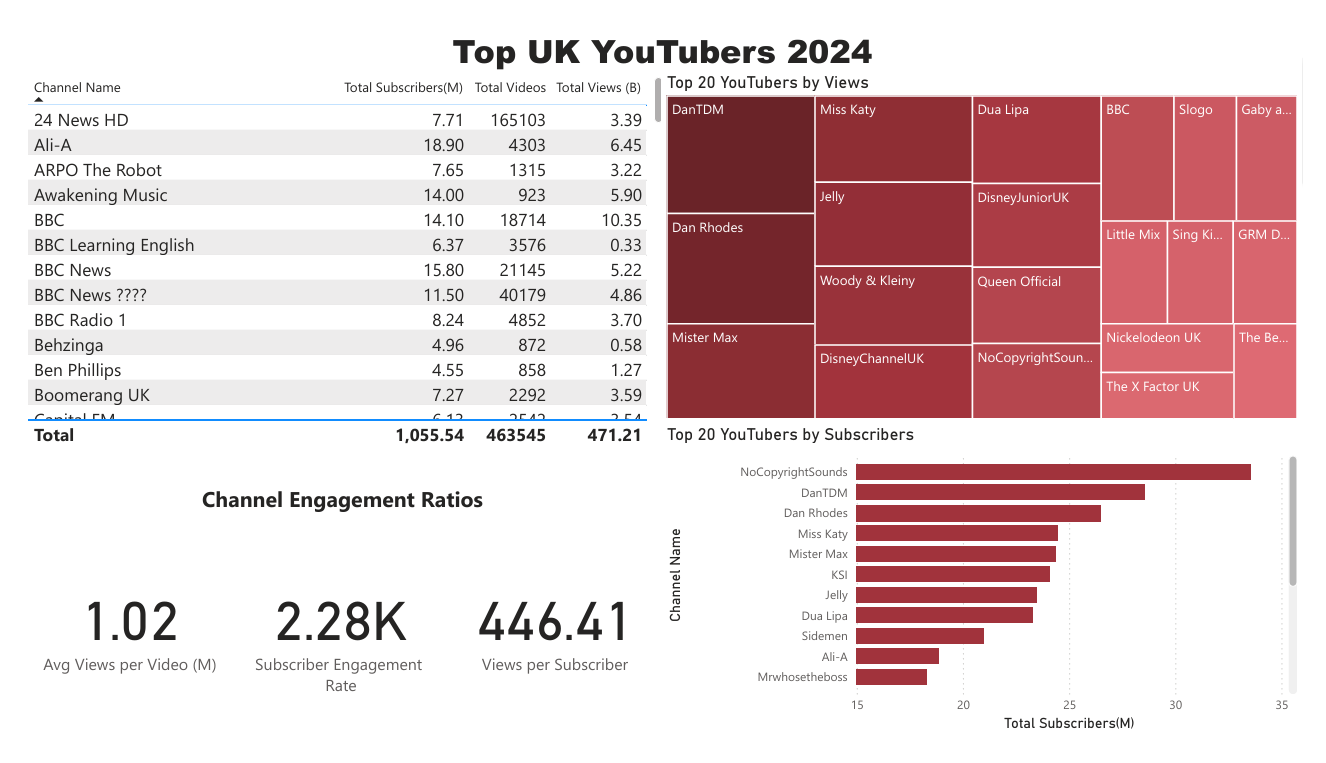

This screenshot's page, from the dashboard's own definition file:
{"tool":"powerbi","page":{"name":"Page 1","canvas":[1280,720],"ordinal":0},"visuals":[{"type":"textbox","box":[0,0,1278.9,719],"z":0},{"type":"tableEx","fields":{"Values":["view_uk_youtubers_2024.channel_name","view_uk_youtubers_2024.Total Subscribers(M)","view_uk_youtubers_2024.Total Videos","view_uk_youtubers_2024.Total Views (B)"]},"box":[0,49.2,645.2,377.6],"z":1000},{"type":"treemap","title":"Top 20 YouTubers by Views","fields":{"Group":["view_uk_youtubers_2024.channel_name"],"Values":["view_uk_youtubers_2024.Total Views (B)"]},"box":[639.5,49.4,639.5,351.3],"z":2000},{"type":"card","fields":{"Values":["view_uk_youtubers_2024.Avg Views per Video (M)"]},"box":[0,484.4,214.1,236],"z":3000},{"type":"clusteredBarChart","title":"Top 20 YouTubers by Subscribers","fields":{"Category":["view_uk_youtubers_2024.channel_name"],"Y":["view_uk_youtubers_2024.Total Subscribers(M)"]},"box":[639.5,400.7,639.5,312.9],"z":4000},{"type":"card","fields":{"Values":["view_uk_youtubers_2024.Views per Subscriber"]},"box":[425.4,484.4,214.1,236],"z":5000},{"type":"card","fields":{"Values":["view_uk_youtubers_2024.Subscriber Engagement Rate"]},"box":[211.3,484.4,214.1,236],"z":6000},{"type":"textbox","box":[0,455.6,639.5,57.6],"z":7000}]}

Visuals, with their boxes in screenshot pixels (x1, y1, x2, y2), scaled from the page's 1280x720 canvas onto the 1326x763 screenshot:
textbox: crop(0, 0, 1325, 762)
tableEx - view_uk_youtubers_2024.channel_name x view_uk_youtubers_2024.Total Subscribers(M): crop(0, 52, 668, 452)
"Top 20 YouTubers by Views" treemap: crop(662, 52, 1325, 425)
card - view_uk_youtubers_2024.Avg Views per Video (M): crop(0, 513, 222, 762)
"Top 20 YouTubers by Subscribers" clusteredBarChart: crop(662, 425, 1325, 756)
card - view_uk_youtubers_2024.Views per Subscriber: crop(441, 513, 662, 762)
card - view_uk_youtubers_2024.Subscriber Engagement Rate: crop(219, 513, 441, 762)
textbox: crop(0, 483, 662, 544)
